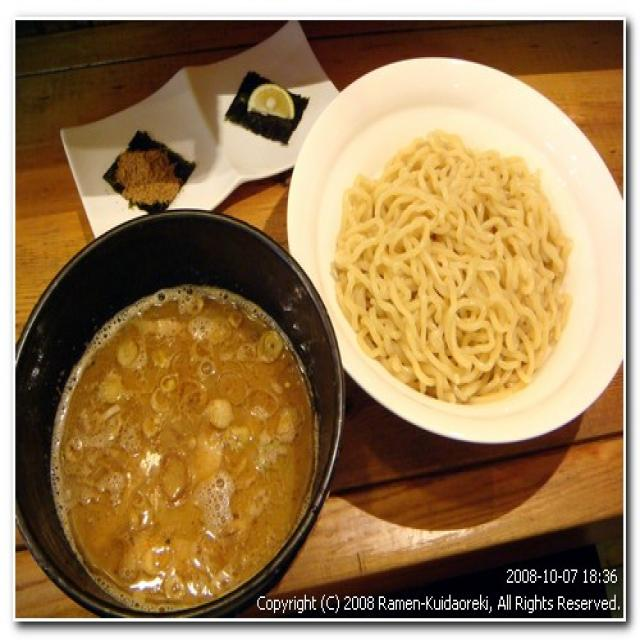面条主食: (59, 131, 576, 603)
